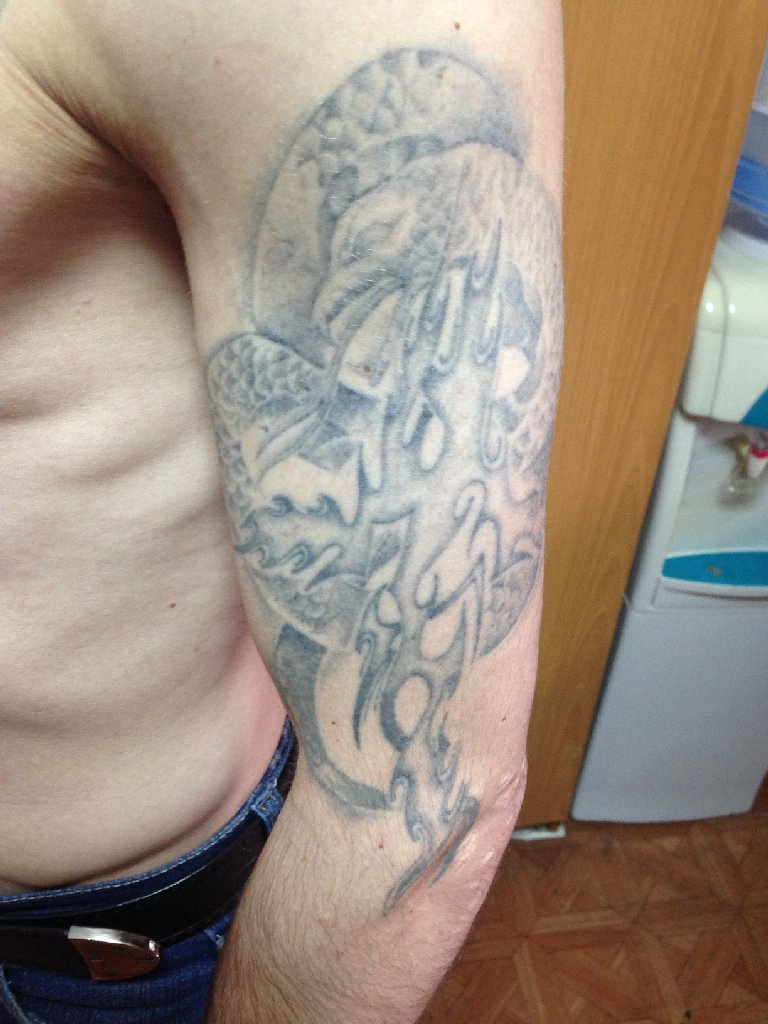tatu7_zmeya: (164, 13, 584, 901)
